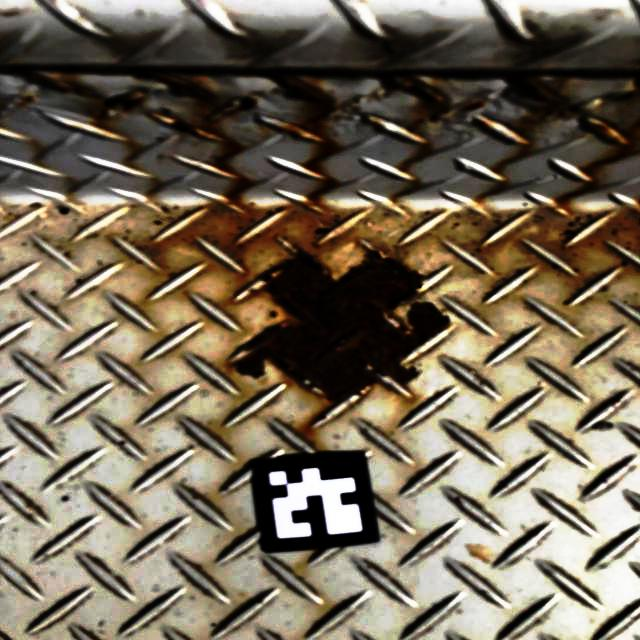Corrosion: (233, 246, 453, 406), (140, 75, 232, 139), (275, 78, 338, 158), (384, 73, 448, 119), (54, 82, 142, 112), (512, 80, 568, 114), (594, 122, 640, 146), (236, 97, 256, 112), (462, 99, 483, 111), (248, 287, 259, 296)
